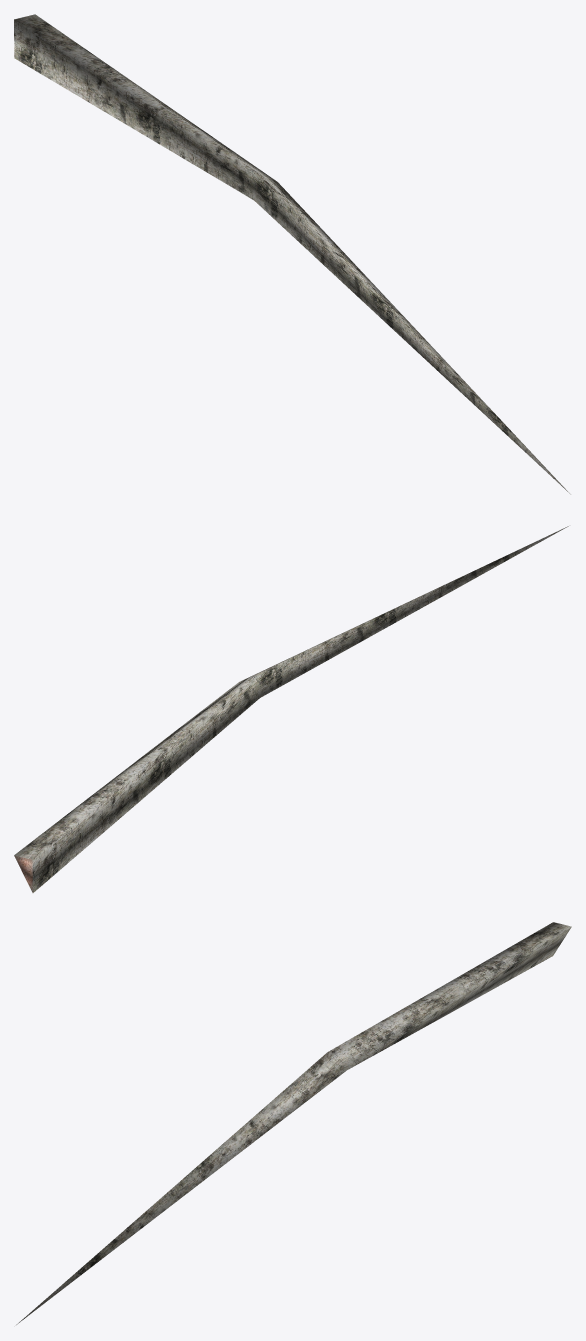
Rendered from decd_whitebirchlog_sm_l3.fbx.
The picture shows the model from 3 angles, top to bottom: view 1: azimuth 30°, elevation 25°; view 2: azimuth 150°, elevation 25°; view 3: azimuth 330°, elevation 25°; orthographic projection. The views are drawn at different scales.
Visible parts, largest first — view 1: mesh_node; view 2: mesh_node; view 3: mesh_node.
Part boxes in pixels (left/top/right/bottom): mesh_node: left=14, top=14, right=570, bottom=494; mesh_node: left=14, top=526, right=568, bottom=892; mesh_node: left=16, top=922, right=571, bottom=1324.
Size of the model in its own units: 0.4941 by 0.6756 by 10.02.
